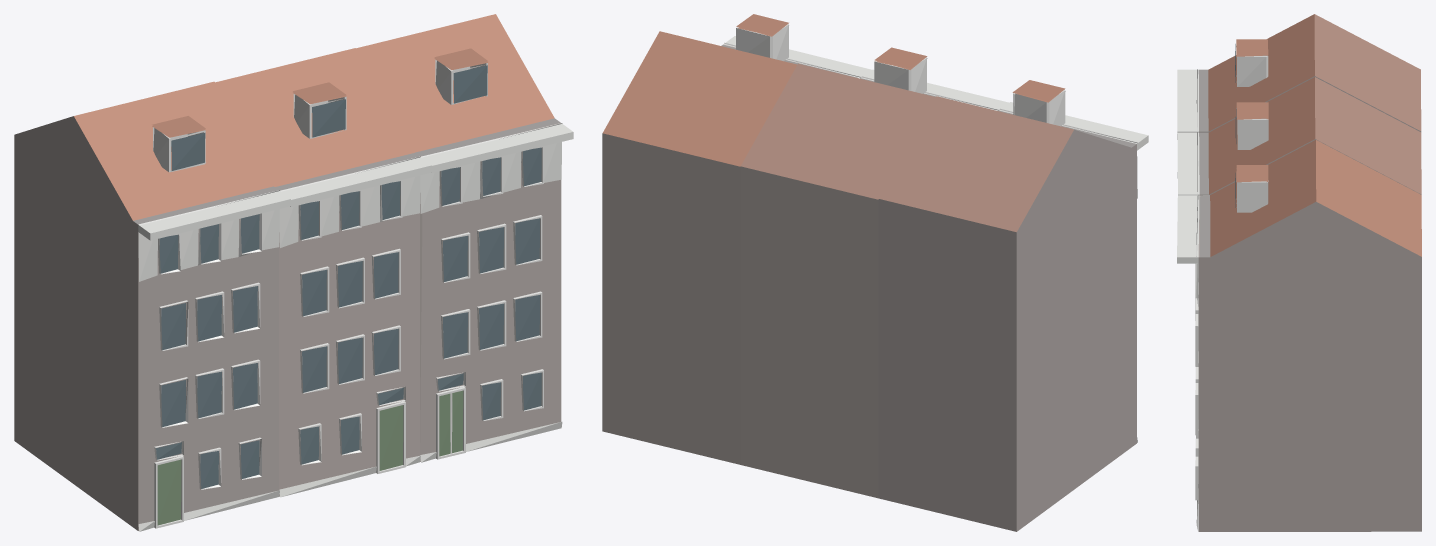
Rendered from chunk-face-gorontalo-25-47-r2.lod2.glb.
The picture shows the model from 3 angles, left to right: view 1: azimuth 30°, elevation 25°; view 2: azimuth 150°, elevation 25°; view 3: azimuth 270°, elevation 25°; orthographic projection. The views are drawn at different scales.
Visible parts, largest first — view 1: lod2; view 2: lod2; view 3: lod2.
Boxes of the visible parts, x1,y1,x2,y2 form: lod2: (14, 14, 573, 531); lod2: (602, 14, 1148, 531); lod2: (1177, 14, 1421, 531).
Bounding box in the file's own units: 18.44 × 15.32 × 10.25.
